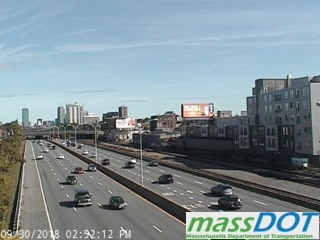car: (74, 189, 92, 206), (210, 184, 234, 196), (217, 196, 241, 208), (109, 196, 126, 209), (158, 173, 174, 184), (65, 175, 77, 185), (147, 159, 160, 167), (86, 163, 97, 172), (125, 160, 134, 169), (73, 166, 83, 174), (100, 158, 110, 166), (128, 157, 138, 164), (42, 146, 50, 153), (36, 153, 44, 160), (57, 153, 64, 160), (48, 145, 56, 151), (82, 150, 90, 156), (91, 153, 98, 158), (38, 142, 43, 147), (70, 142, 75, 146), (77, 146, 83, 149), (46, 143, 50, 146)
